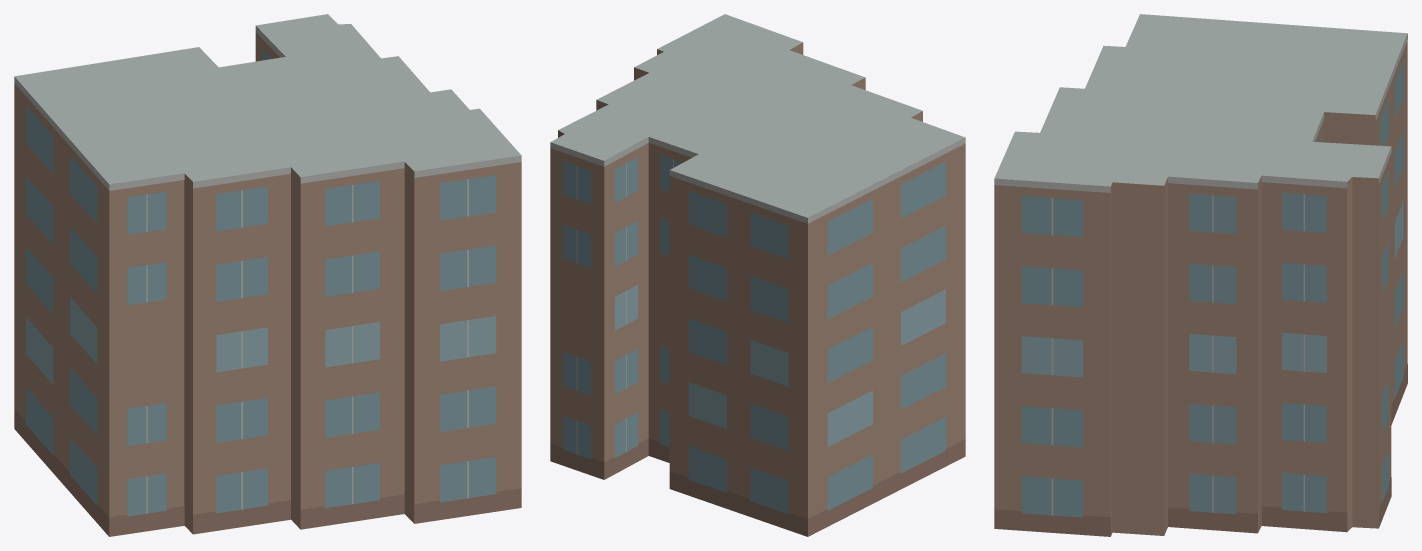
File: survey-upis-32564958.glb
3 renders of one model, left to right at view 1: azimuth 30°, elevation 25°; view 2: azimuth 150°, elevation 25°; view 3: azimuth 270°, elevation 25°, orthographic. The views are drawn at different scales.
Parts seen in each view (by area): view 1: survey-upis-32564958.tmp; view 2: survey-upis-32564958.tmp; view 3: survey-upis-32564958.tmp.
Boxes of the visible parts, x1=… form: survey-upis-32564958.tmp: x1=14, y1=14, x2=521, y2=536; survey-upis-32564958.tmp: x1=550, y1=14, x2=965, y2=536; survey-upis-32564958.tmp: x1=994, y1=14, x2=1407, y2=536.
Size of the model in its own units: 13.96 by 13.2 by 14.13.
